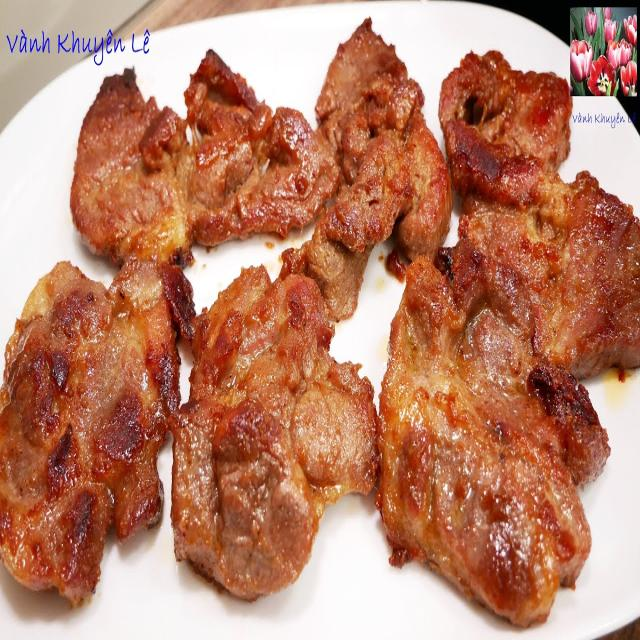thit chien: (380, 258, 590, 626), (171, 267, 378, 600), (0, 257, 194, 604), (70, 51, 342, 260), (303, 20, 452, 321), (452, 159, 640, 378), (439, 51, 572, 198)
